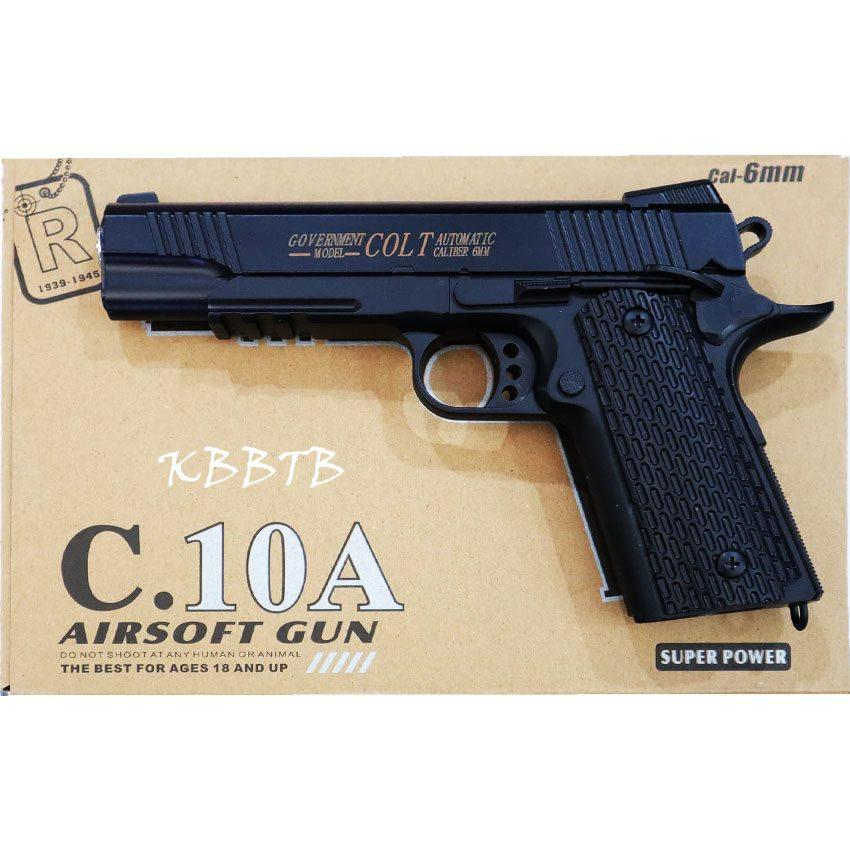gun: (92, 176, 839, 632)
